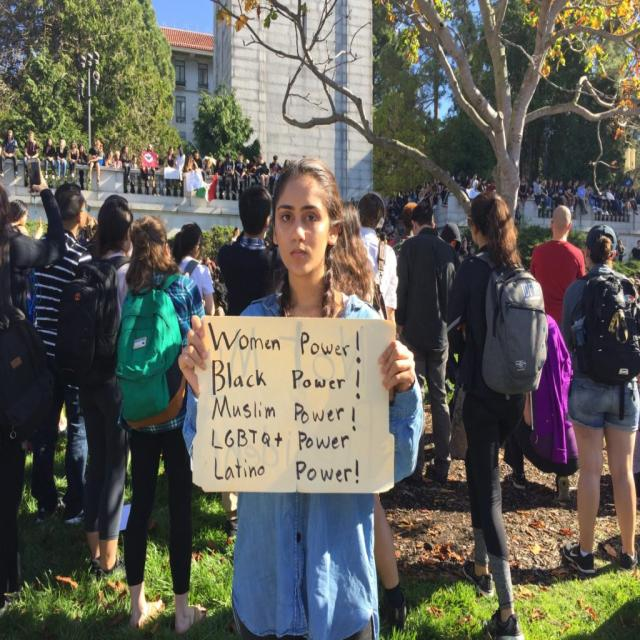body: (175, 156, 428, 639), (444, 188, 550, 639), (114, 213, 208, 638), (51, 194, 136, 586), (0, 156, 70, 616), (559, 221, 639, 577), (215, 183, 286, 542), (393, 198, 464, 494), (31, 182, 92, 526), (502, 310, 583, 507), (169, 219, 218, 463), (325, 198, 386, 324), (529, 203, 587, 326), (356, 191, 400, 323), (9, 198, 44, 328), (0, 125, 19, 179), (378, 205, 403, 245), (140, 142, 160, 188), (388, 182, 428, 205), (22, 129, 40, 180), (438, 221, 463, 256), (428, 168, 450, 206), (86, 139, 103, 185), (200, 250, 221, 284), (54, 138, 70, 181), (42, 134, 56, 180), (222, 152, 235, 200), (245, 155, 258, 203), (212, 156, 225, 202), (254, 153, 270, 189), (77, 144, 89, 191), (234, 152, 248, 192), (621, 274, 640, 302), (175, 145, 187, 189), (203, 158, 216, 198), (165, 146, 176, 191), (68, 138, 80, 178), (119, 145, 131, 184), (225, 220, 242, 247), (603, 181, 616, 216), (576, 180, 589, 214), (563, 179, 576, 213), (572, 180, 584, 214), (612, 182, 624, 215), (128, 152, 138, 190), (585, 183, 597, 214), (628, 186, 640, 216), (97, 142, 107, 176), (518, 175, 528, 209), (449, 171, 469, 188), (532, 176, 542, 209), (620, 186, 632, 213), (191, 148, 203, 174), (628, 239, 640, 260), (616, 238, 626, 262), (104, 148, 116, 167), (269, 154, 281, 173), (597, 181, 604, 212), (622, 171, 634, 187), (478, 178, 495, 189), (540, 180, 550, 198), (114, 150, 123, 169), (550, 176, 556, 203), (471, 172, 479, 192), (557, 180, 565, 197), (283, 158, 291, 168), (529, 183, 533, 194)
